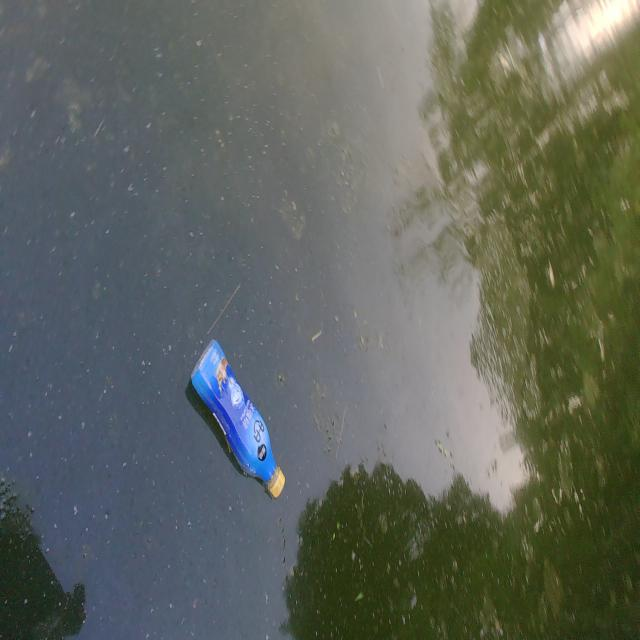Bottle: (186, 333, 286, 501)
